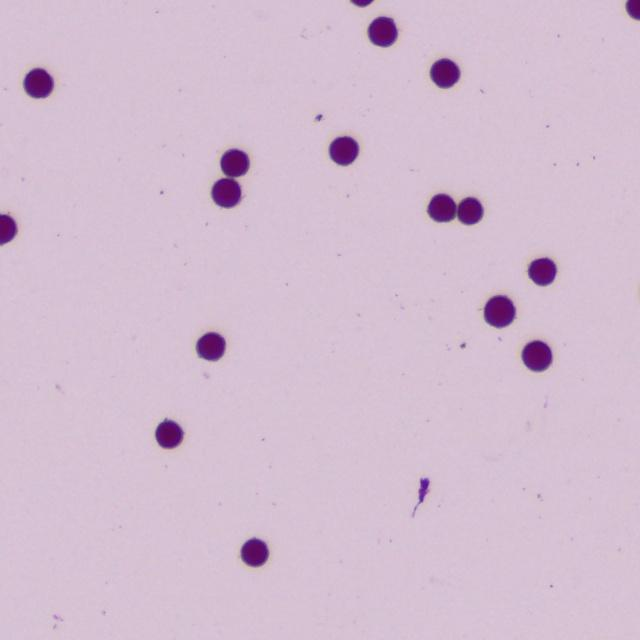viable: (484, 296, 515, 327), (522, 341, 551, 371), (368, 17, 397, 46), (24, 68, 52, 97), (196, 332, 225, 360), (431, 58, 459, 87), (330, 136, 358, 165), (221, 149, 249, 177), (528, 257, 556, 285), (241, 538, 268, 566), (427, 194, 455, 221), (212, 179, 240, 206), (156, 420, 182, 448), (457, 197, 483, 224), (0, 214, 16, 244), (627, 0, 639, 19), (351, 0, 372, 6)
